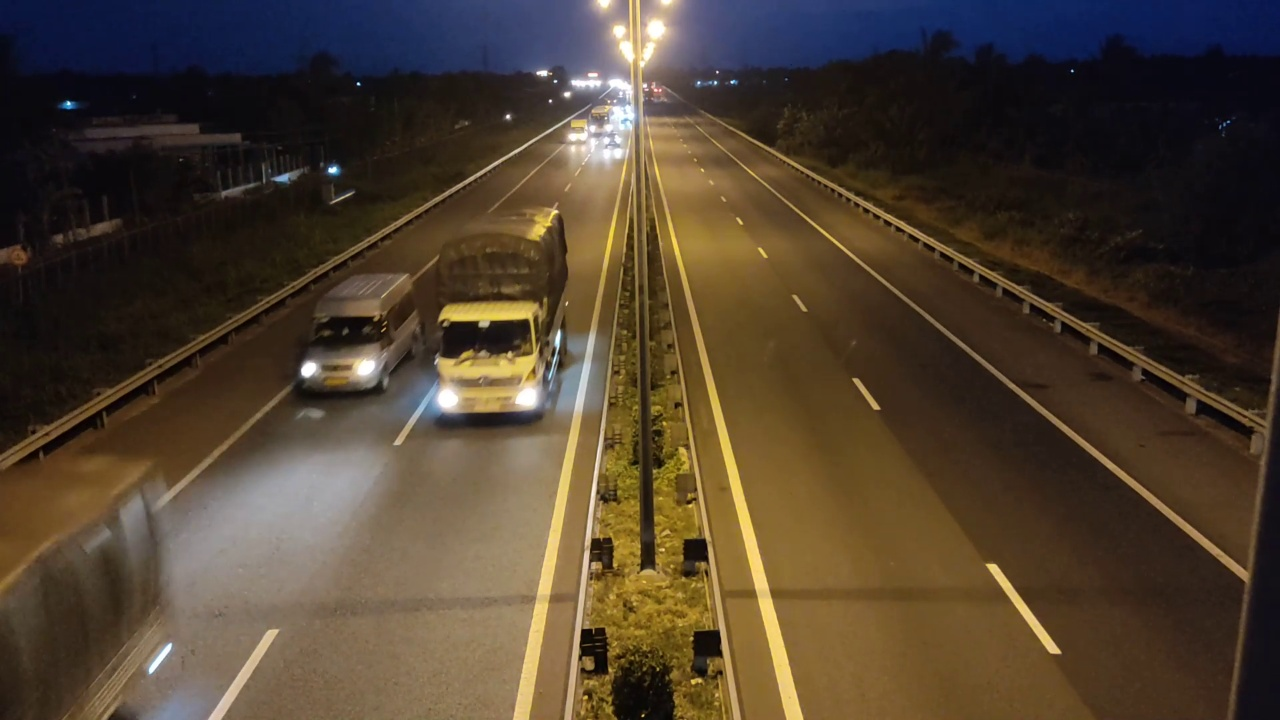car: (294, 271, 427, 397)
truck: (433, 205, 571, 426)
